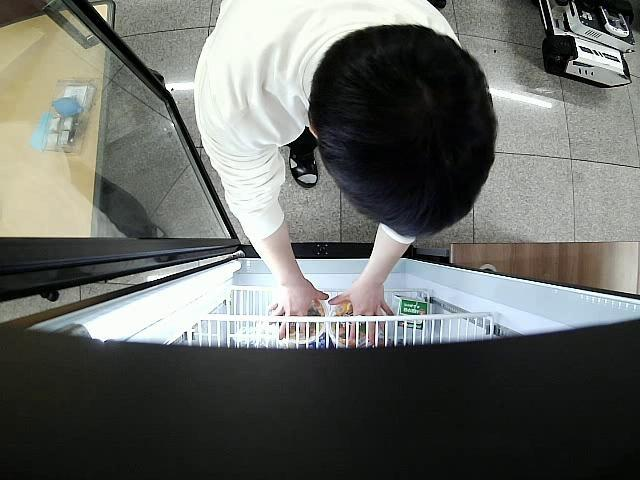09_yukGaeJang: (329, 298, 367, 346), (291, 300, 327, 342)
